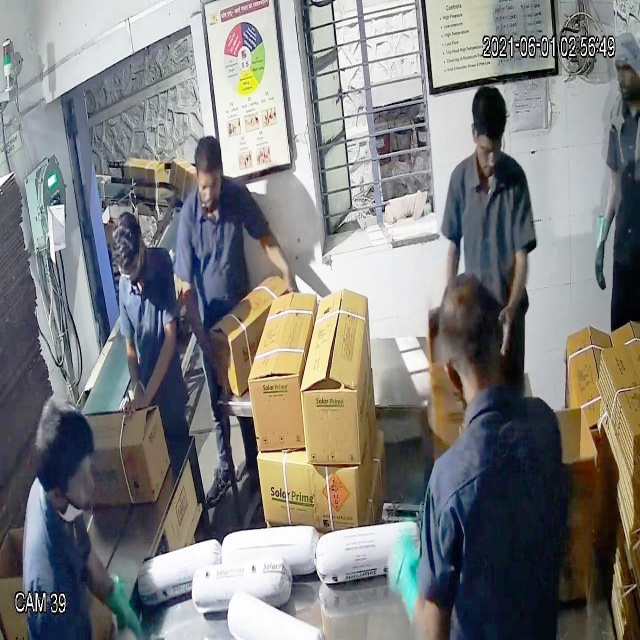Gafas: (114, 253, 149, 288)
